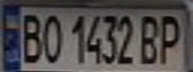1: (63, 11, 84, 64)
2: (115, 11, 139, 65)
3: (100, 11, 121, 65)
4: (84, 11, 103, 64)
B: (18, 9, 45, 64)
O: (39, 10, 66, 64)
P: (154, 11, 187, 65), (136, 11, 163, 65)
